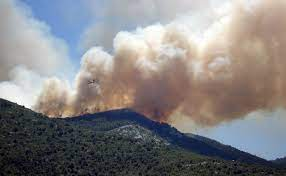smoke: (37, 1, 286, 119)
